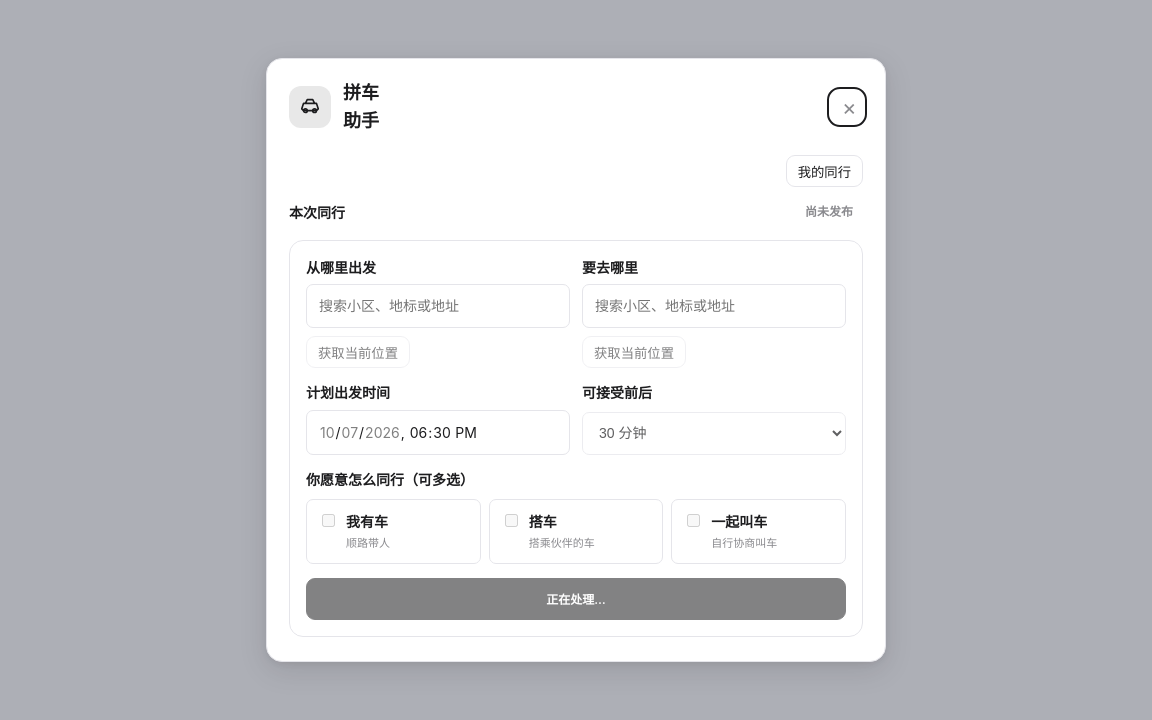
按需定位与团队地图服务 › does not locate on opening, and still supports manual selection after permission denial
The width and height of the screenshot is (1152, 720).
Expected: the text "本次同行" is shown, [289, 204, 345, 220]
Click the button "获取当前位置" below "从哪里出发" at (358, 352), box [306, 336, 410, 368]
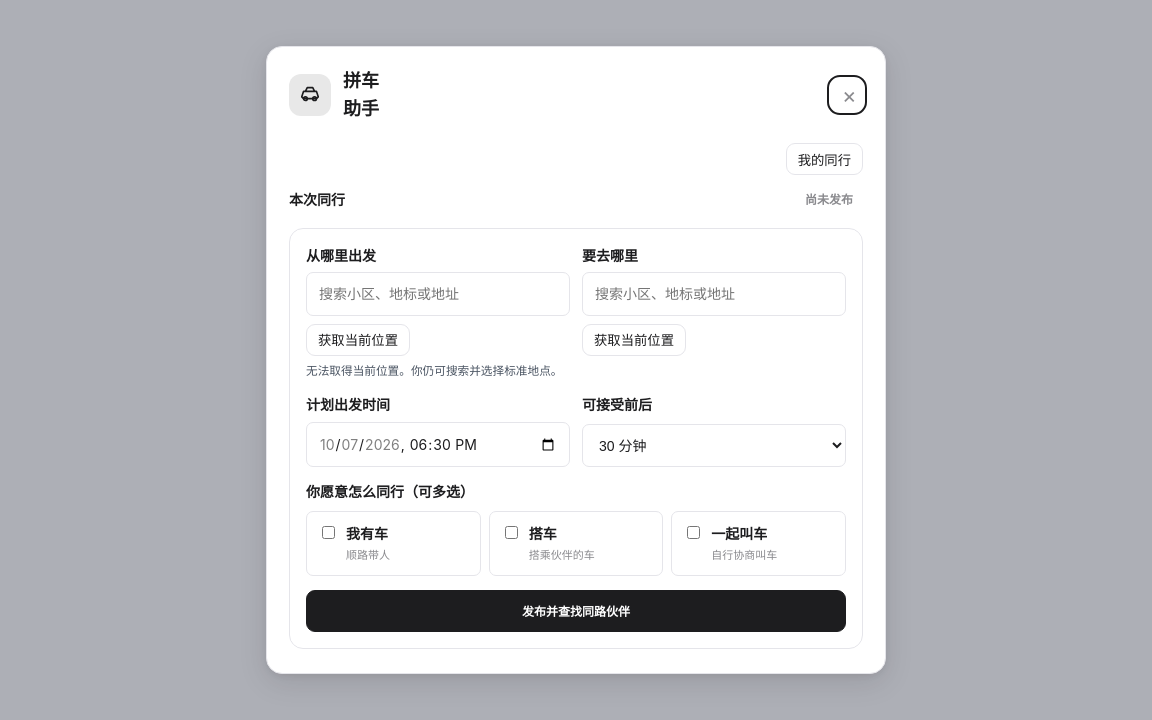
Expected: the text "无法取得当前位置。你仍可搜索并选择标准地点。" is shown, [306, 362, 570, 380]
Type "园区南门" into the dropdown with placeholder "搜索小区、地标或地址" below "从哪里出发" at (438, 294), box [306, 272, 570, 316]
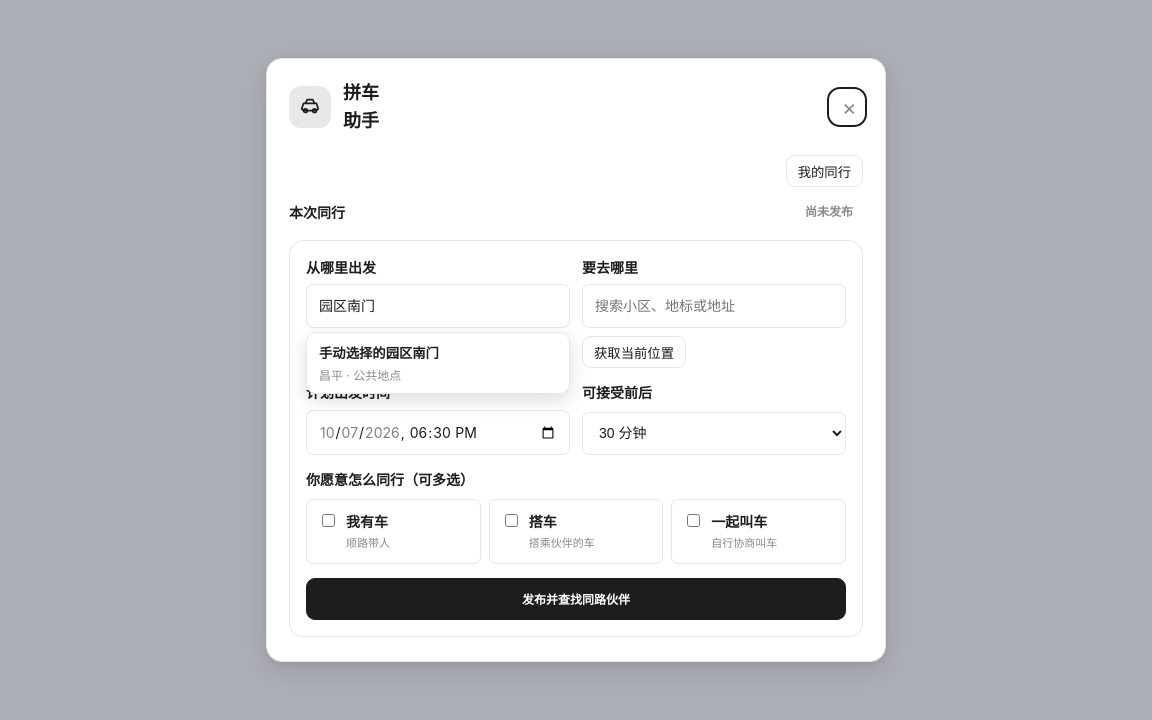
Click the option "手动选择的园区南门 昌平 · 公共地点" at (438, 363), box [307, 333, 569, 393]
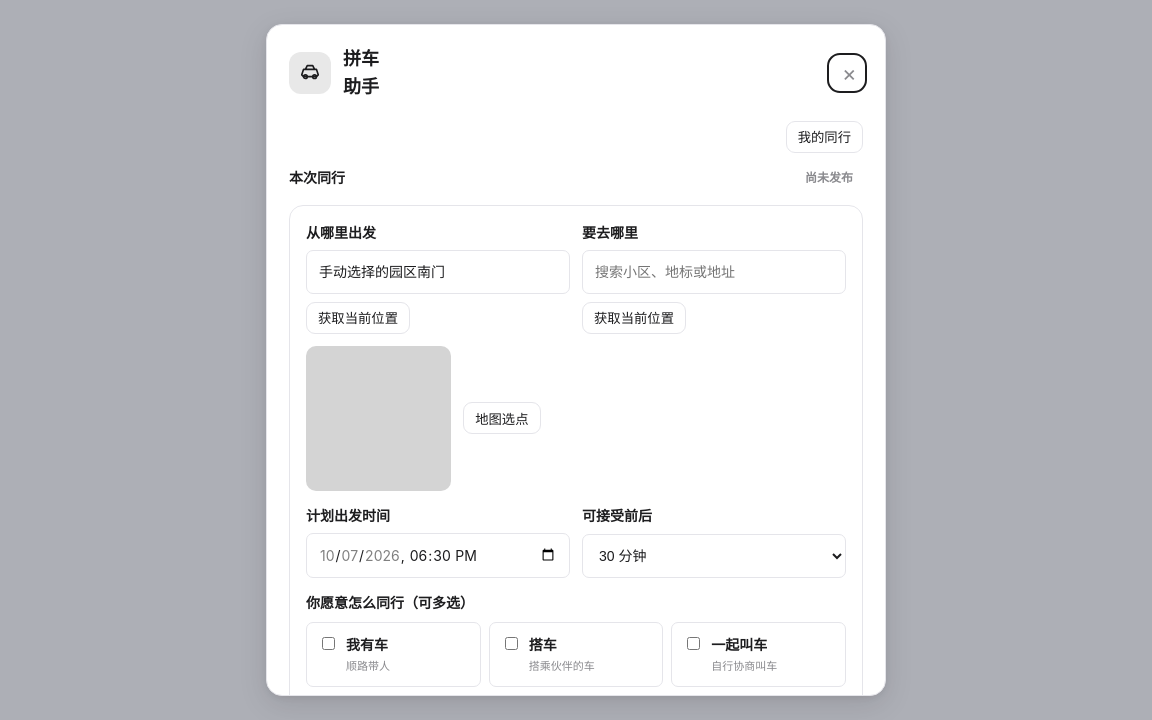
Expected: the dropdown named "从哪里出发搜索" holds "手动选择的园区南门", [306, 250, 570, 294]
